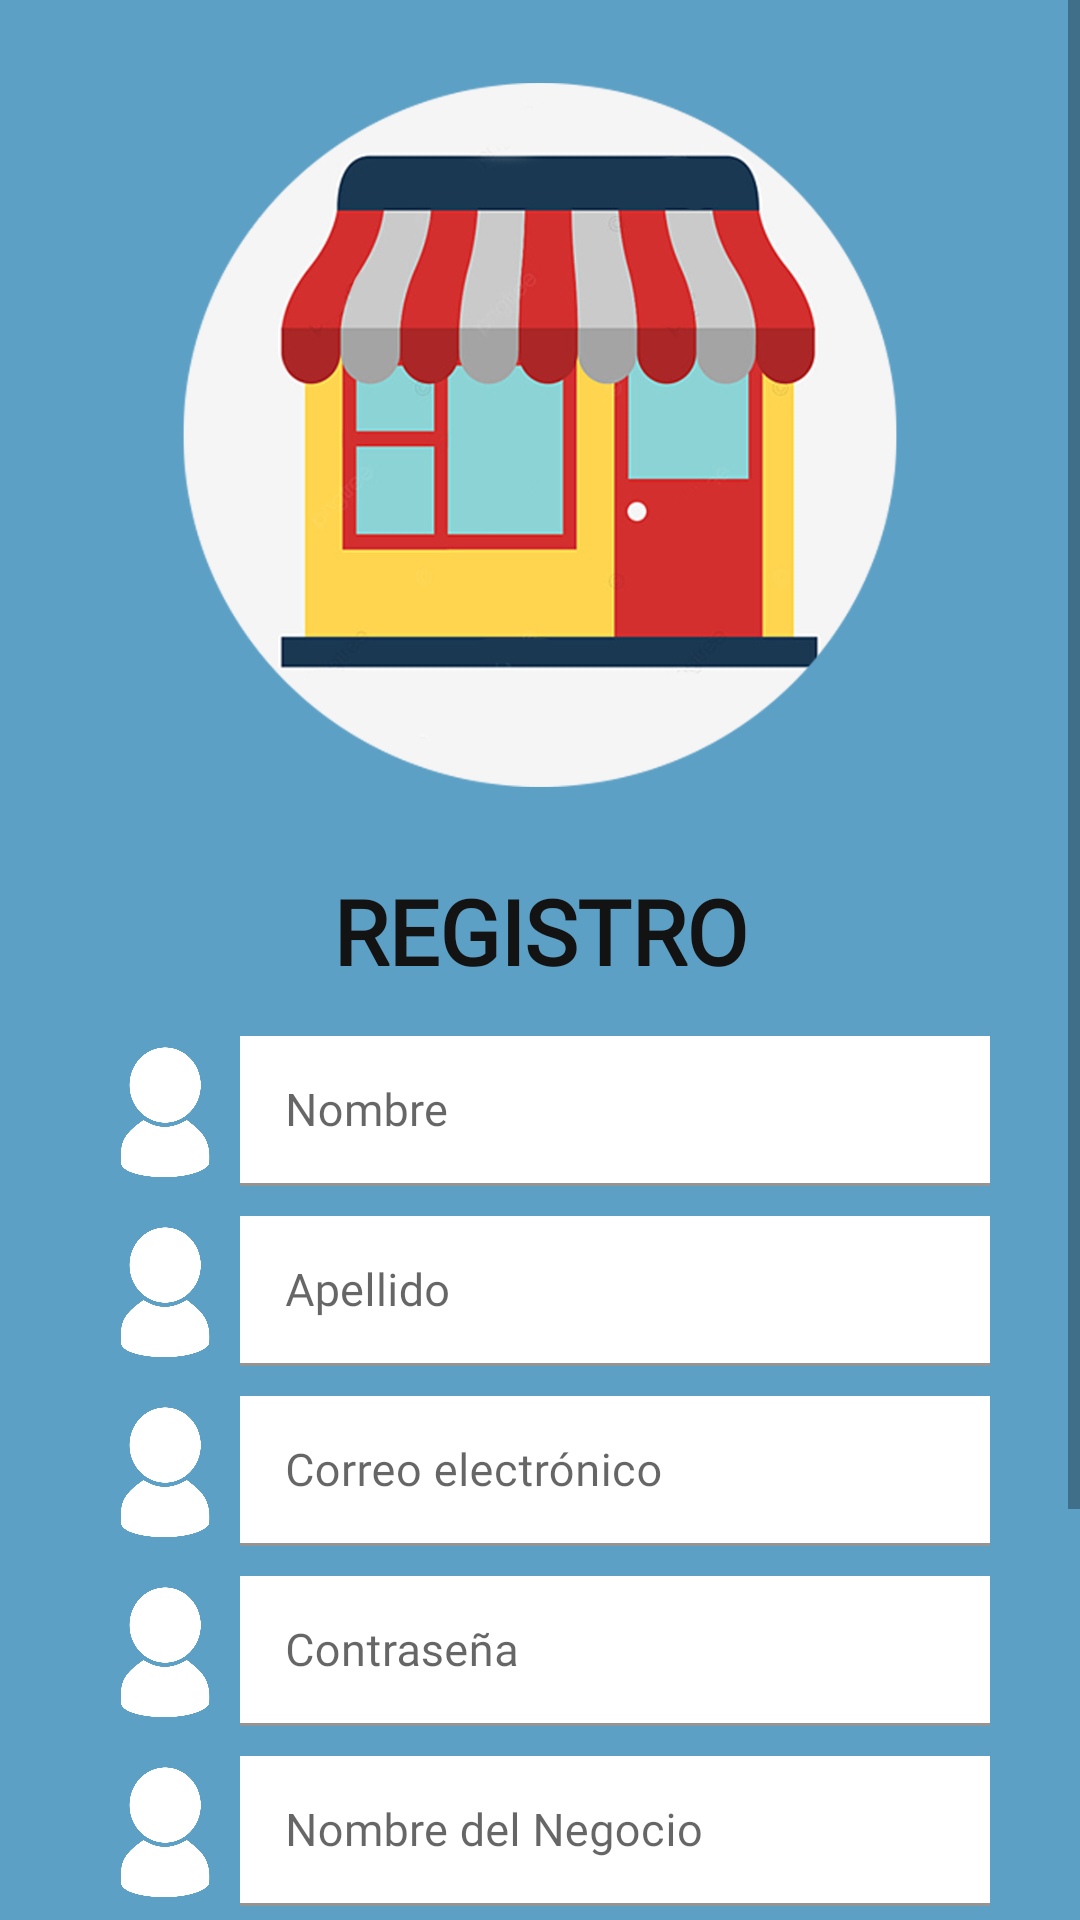

Where icons sit on this 1080 × 1920 app screen, as Rect(x1, y1, x2, y2):
person: Rect(121, 1047, 210, 1177), Rect(121, 1227, 210, 1357), Rect(121, 1407, 210, 1537), Rect(121, 1587, 210, 1717), Rect(121, 1767, 210, 1897)
